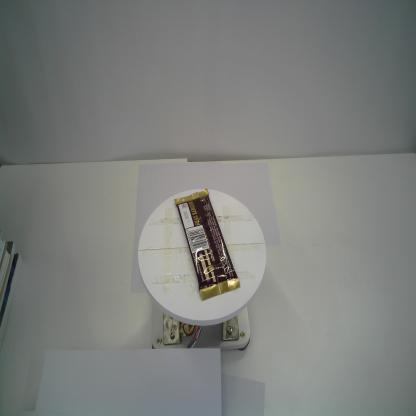Chocolate: (175, 186, 241, 303)
